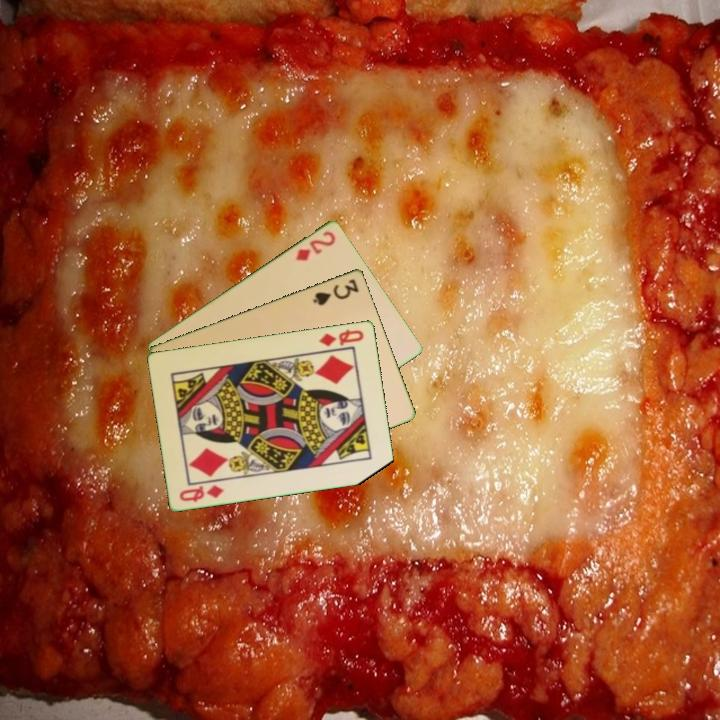2d: (292, 227, 338, 264)
3s: (309, 275, 362, 308)
Qd: (315, 325, 367, 349), (176, 481, 227, 505)
